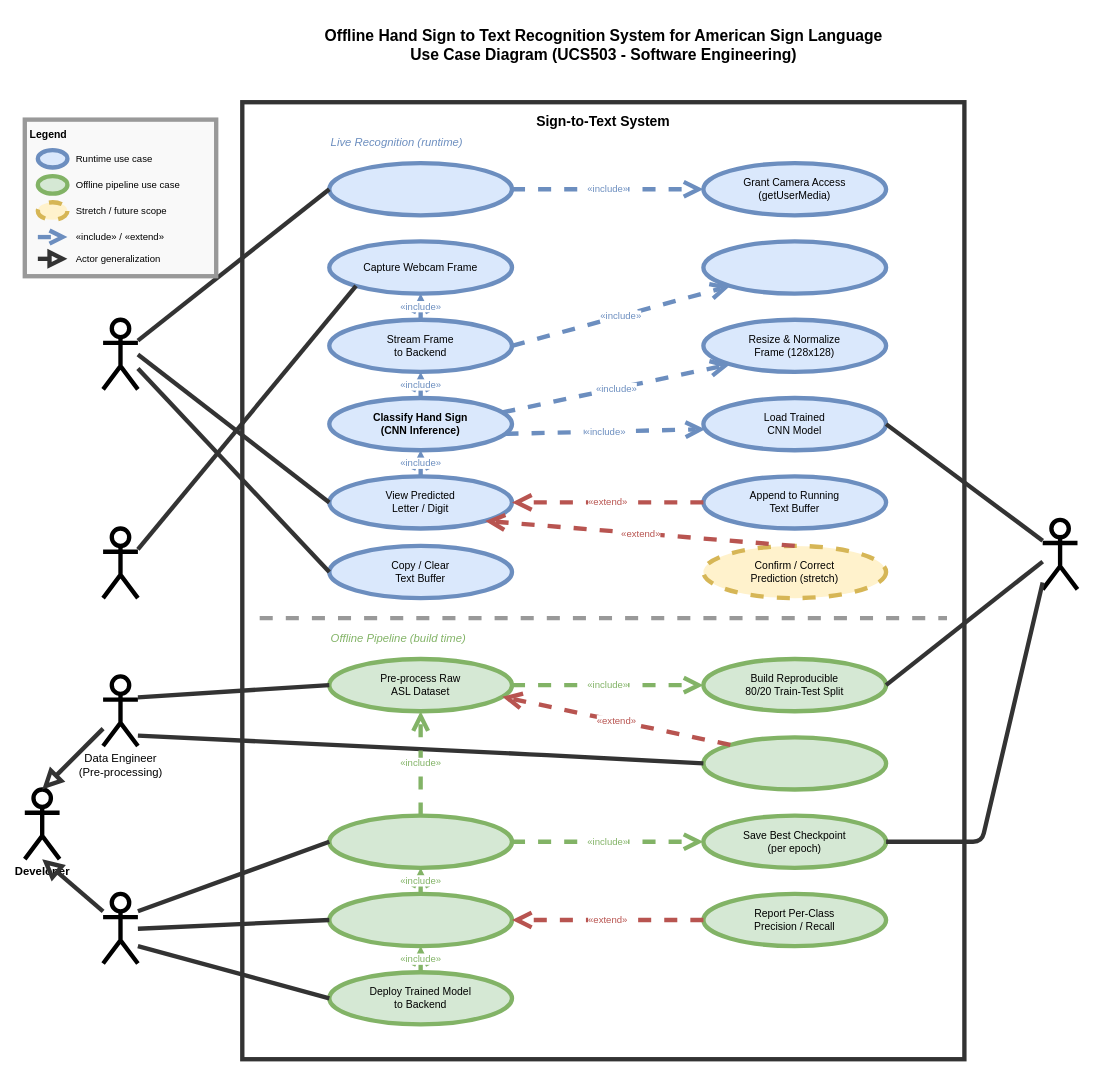
This 1111x1076 diagram has some shape labels left out. The centre of each missing label's shape, as x and y in pixels:
"End User (Signer)" belongs at point 120,354.
"Establish WebSocket Connection (/ws/echo)" belongs at point 794,267.
"Evaluate Model on Held-out Test Split" belongs at point 420,919.
"Extract Hand Landmarks (MediaPipe - alt. path)" belongs at point 794,763.
"ML Engineer (Backend & CNN)" belongs at point 120,928.
"Start / Stop Recognition Session" belongs at point 420,189.
"Train CNN from Scratch (DL4J / ND4J)" belongs at point 420,841.
"«device» Webcam" belongs at point 120,563.
"«system» Local Model & Dataset Store" belongs at point 1059,554.
